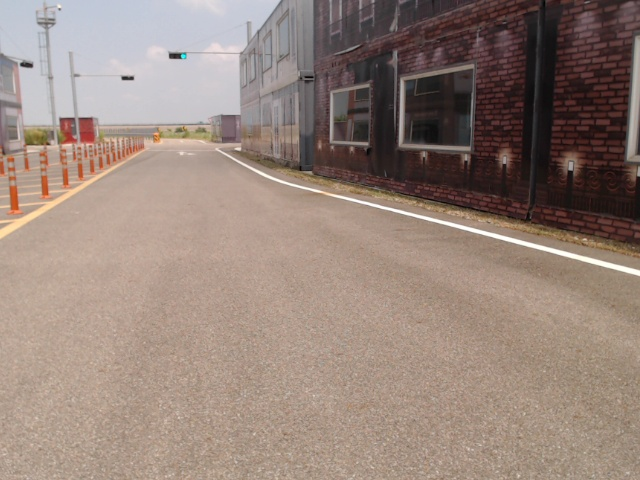green_3: (169, 52, 187, 60)
